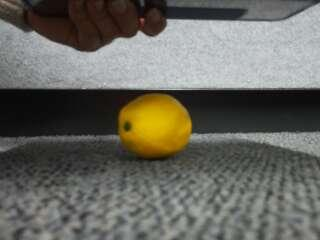lemon: (118, 95, 190, 160)
